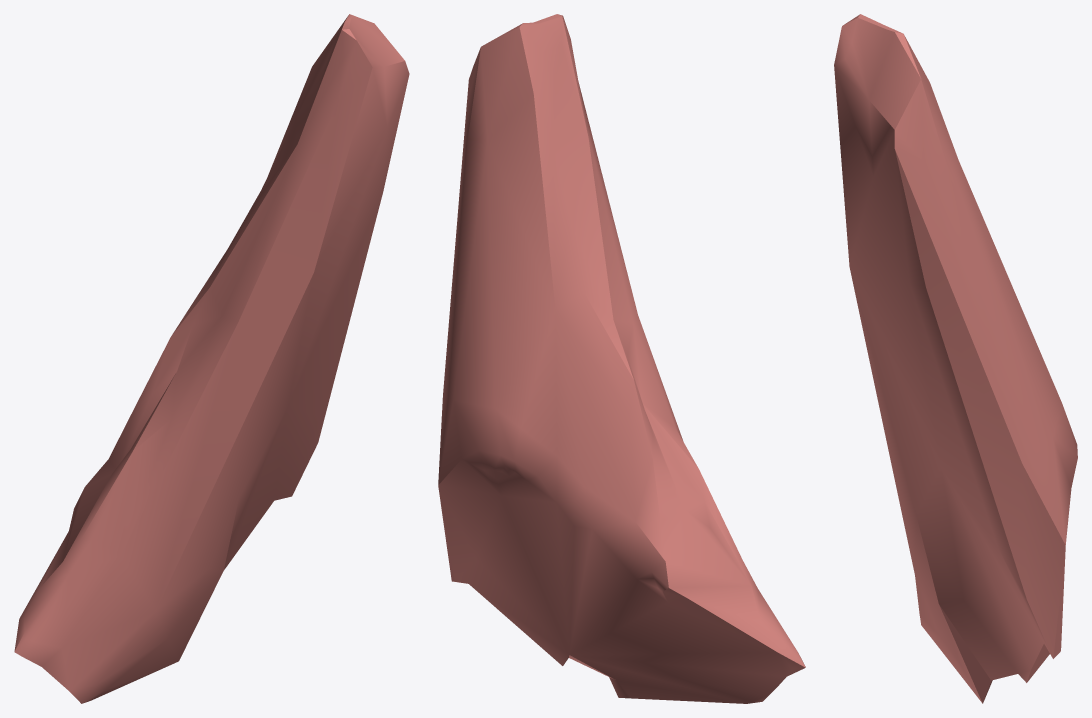
Rendered from fma82366_mm3994m.glb.
3 renders of one model, left to right at view 1: azimuth 30°, elevation 25°; view 2: azimuth 150°, elevation 25°; view 3: azimuth 270°, elevation 25°, orthographic. The views are drawn at different scales.
Parts seen in each view (by area): view 1: FMA82366_MM3994M; view 2: FMA82366_MM3994M; view 3: FMA82366_MM3994M.
Boxes of the visible parts, left/top/right/bottom form: FMA82366_MM3994M: left=14, top=14, right=409, bottom=703; FMA82366_MM3994M: left=438, top=14, right=805, bottom=703; FMA82366_MM3994M: left=834, top=14, right=1077, bottom=703.
Size of the model in its own units: 0.0115 by 0.0189 by 0.00554.
